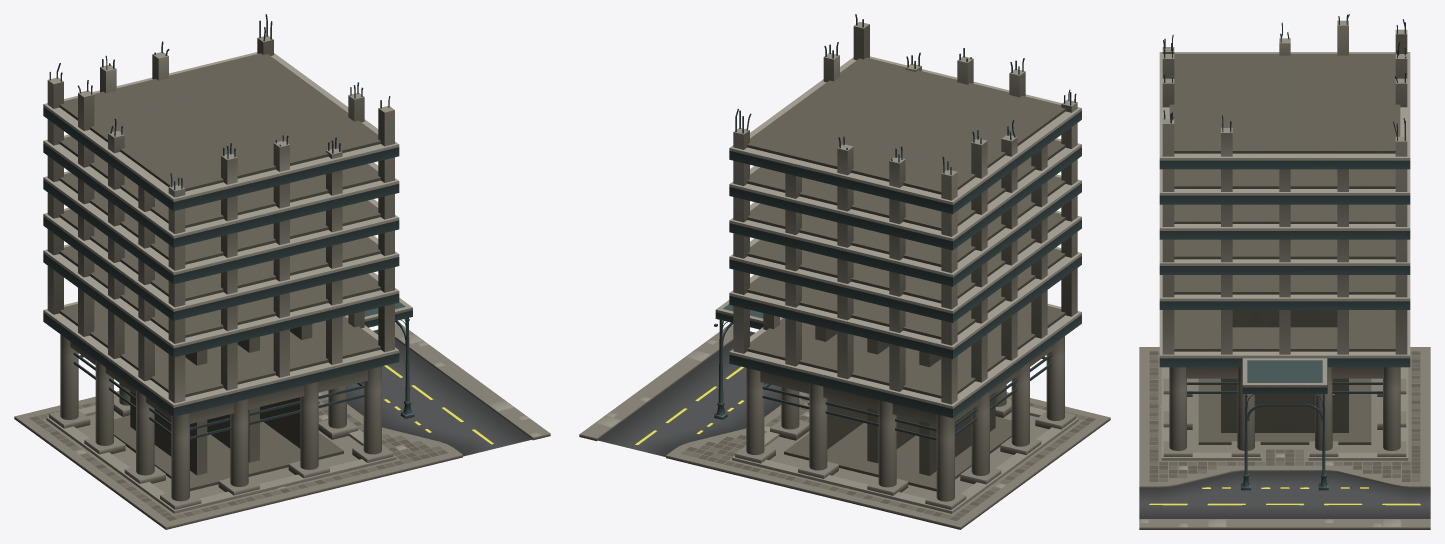
Rendered from Building_Construction_1A.fbx.
3 renders of one model, left to right at view 1: azimuth 30°, elevation 25°; view 2: azimuth 150°, elevation 25°; view 3: azimuth 270°, elevation 25°, orthographic. The views are drawn at different scales.
Visible parts, largest first — view 1: Building_Construction_1A, Building_Construction_1A_Addon; view 2: Building_Construction_1A, Building_Construction_1A_Addon; view 3: Building_Construction_1A, Building_Construction_1A_Addon.
Part boxes in pixels (x1=…): Building_Construction_1A: x1=14, y1=14, x2=462, y2=529; Building_Construction_1A_Addon: x1=347, y1=323, x2=550, y2=456; Building_Construction_1A: x1=666, y1=14, x2=1110, y2=529; Building_Construction_1A_Addon: x1=579, y1=325, x2=781, y2=456; Building_Construction_1A: x1=1139, y1=14, x2=1430, y2=490; Building_Construction_1A_Addon: x1=1139, y1=471, x2=1430, y2=529.
Size of the model in its own units: 4400 by 3970 by 3000.
